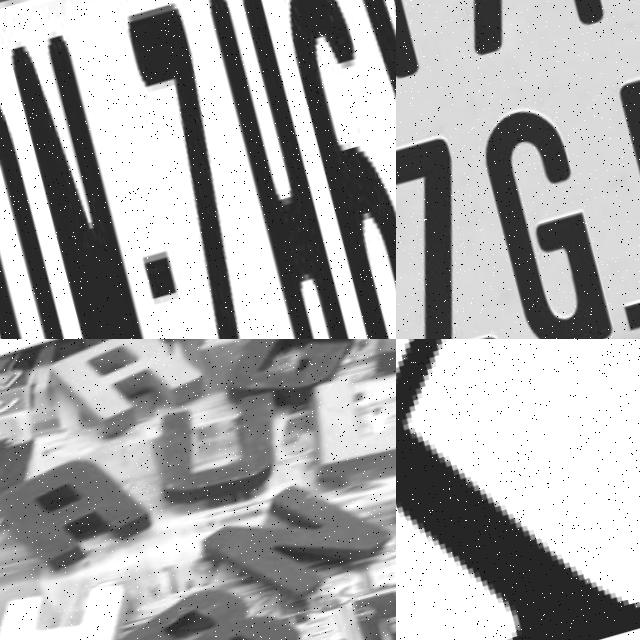6: (256, 0, 396, 339)
7: (405, 0, 564, 60)
A: (0, 442, 163, 582)
B: (118, 559, 328, 640)
D: (0, 47, 147, 339)
G: (469, 101, 627, 339), (220, 339, 376, 402)
H: (186, 0, 396, 339), (0, 569, 150, 640)
L: (290, 353, 396, 490)
N: (0, 27, 222, 339), (203, 466, 396, 615)
R: (40, 339, 210, 438)
U: (150, 383, 297, 512)
X: (396, 339, 640, 640), (329, 0, 396, 339)
Z: (108, 0, 322, 339), (396, 130, 518, 339)
